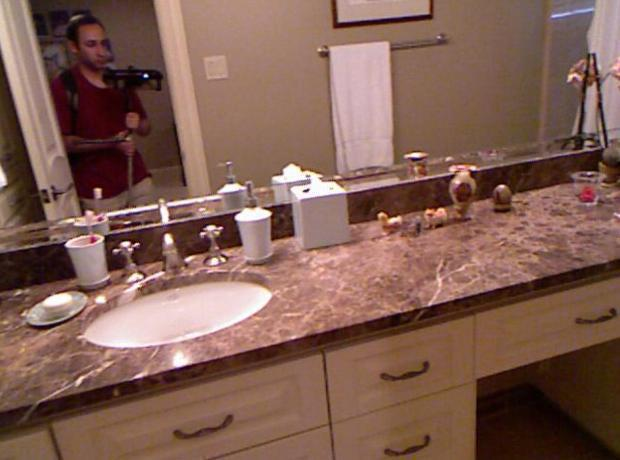Lavamanos: (77, 230, 275, 358)
